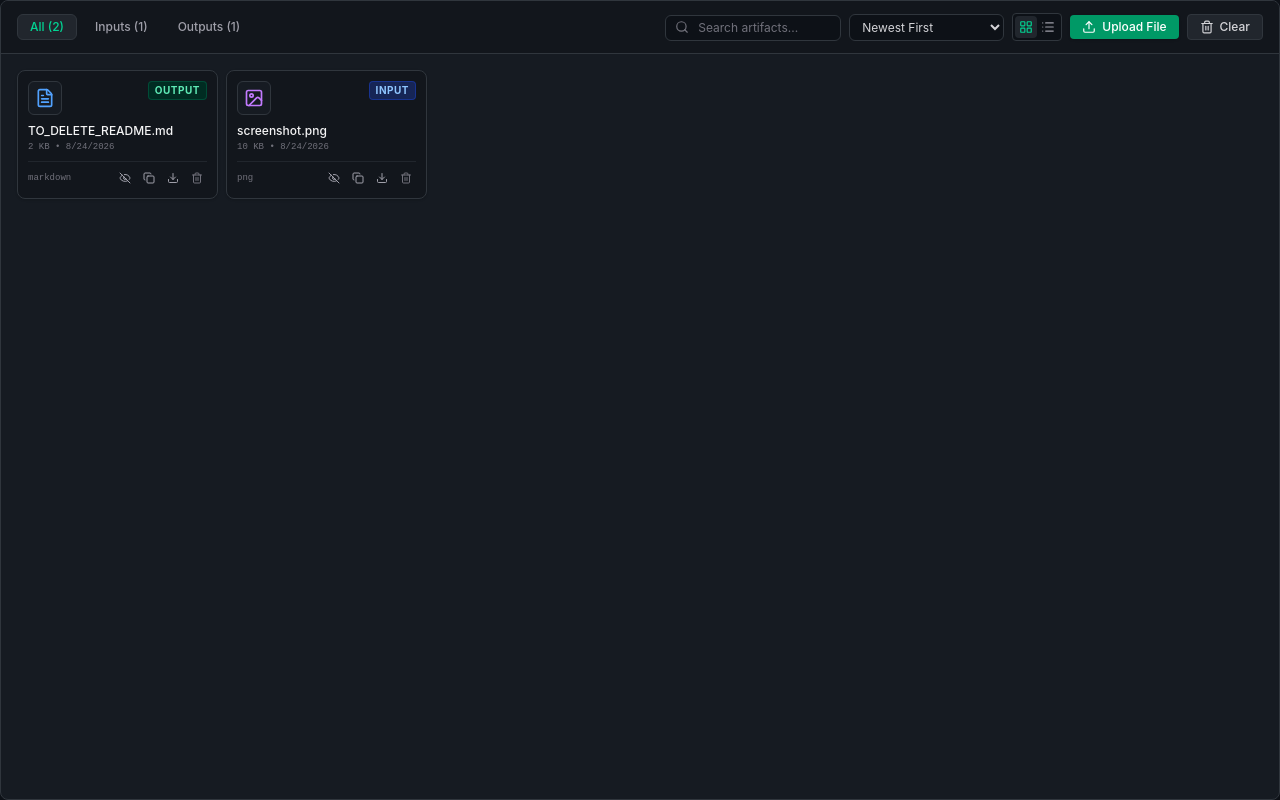
Test: ArtifactGallery Component › filters artifacts by direction
Click the button with test id "filter-artifacts-input" at (121, 27), box [83, 15, 160, 39]
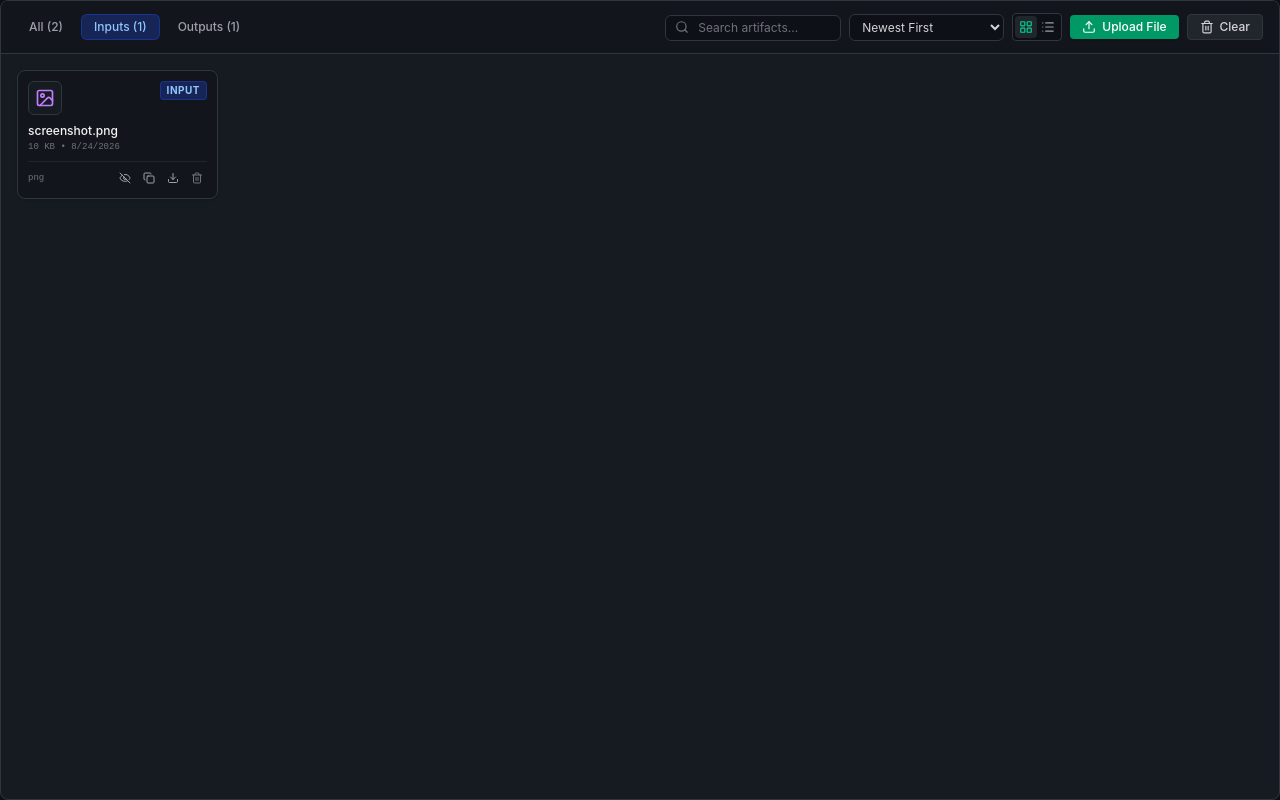
Expected: the text "screenshot.png" is shown, [28, 123, 118, 138]
Now the text "TO_DELETE_README.md" is gone
Click the button with test id "filter-artifacts-output" at (209, 27), box [166, 15, 252, 39]
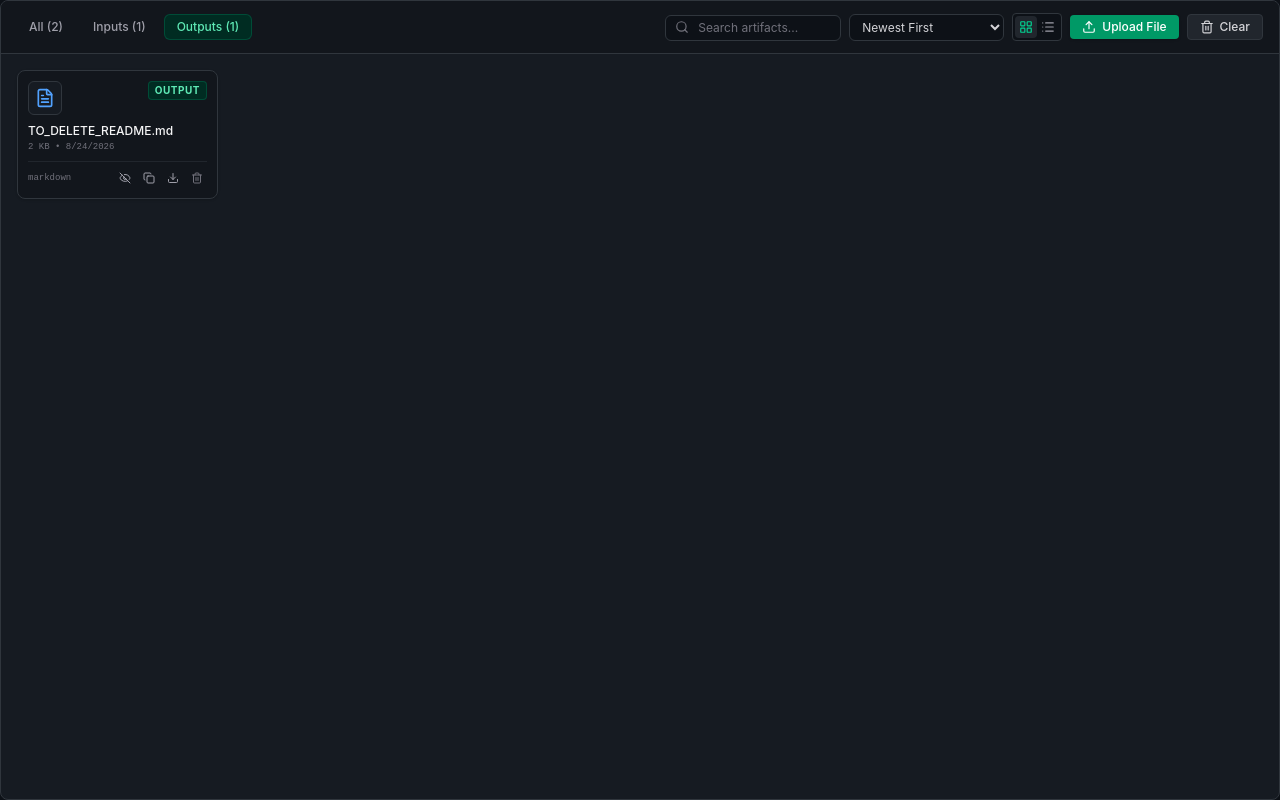
Now the text "TO_DELETE_README.md" is shown, box [28, 123, 173, 138]
Now the text "screenshot.png" is gone
